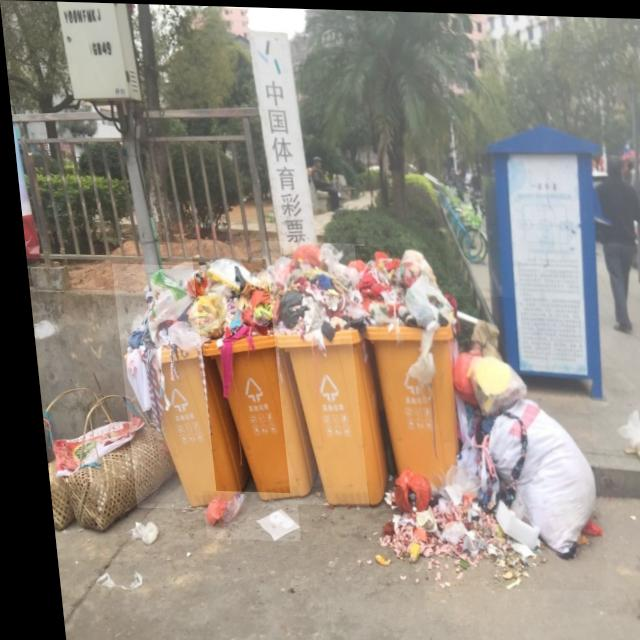garbage: (341, 290, 596, 588), (192, 490, 289, 540)
overflow: (106, 263, 241, 510), (259, 240, 381, 505), (187, 256, 309, 501), (349, 244, 460, 486)
